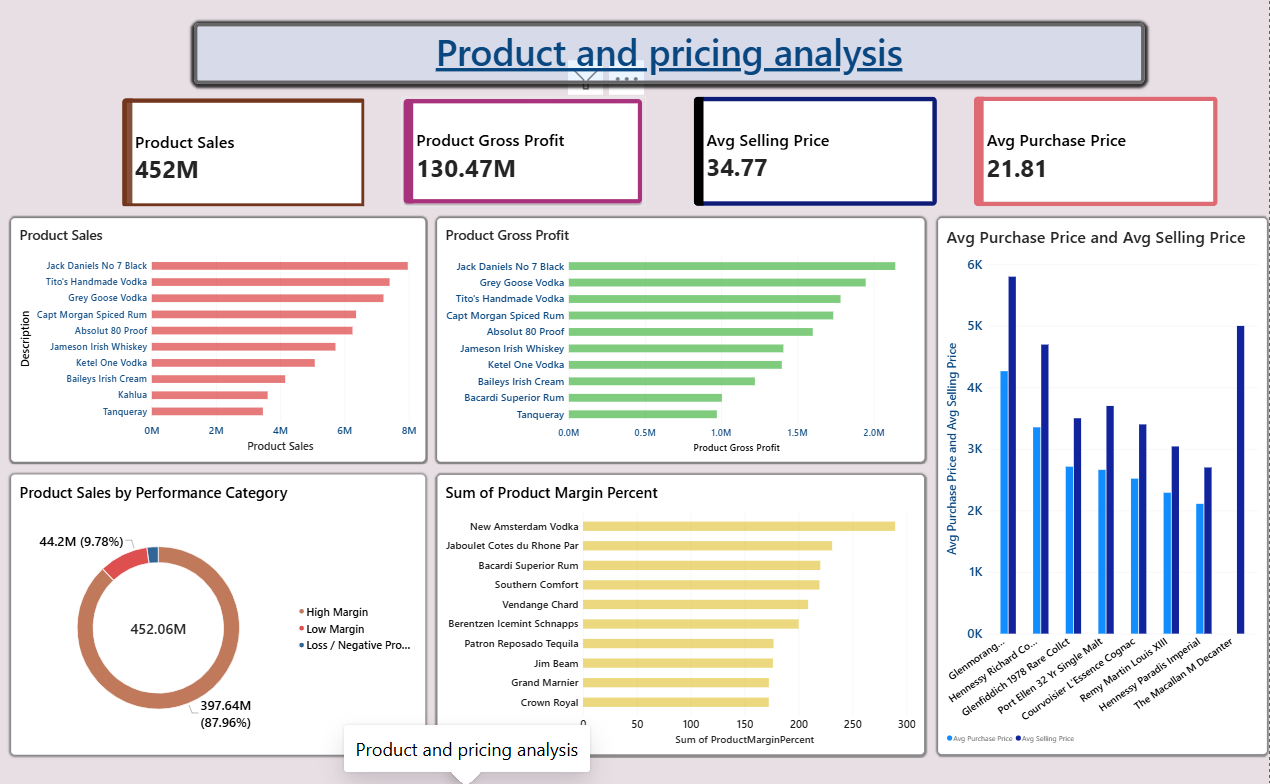

Layout of this report page (visuals, bound fields, positions):
{"tool":"powerbi","page":{"name":"Product and pricing analysis","canvas":[2500,1550],"ordinal":1},"visuals":[{"type":"cardVisual","fields":{"Data":["final_product_analysis.Product Sales"]},"box":[240,192,480,216],"z":0},{"type":"cardVisual","fields":{"Data":["final_product_analysis.Avg Purchase Price"]},"box":[1920,192,480,216],"z":1000},{"type":"cardVisual","fields":{"Data":["final_product_analysis.Avg Selling Price"]},"box":[1368,192,480,216],"z":2000},{"type":"cardVisual","fields":{"Data":["final_product_analysis.Product Gross Profit"]},"box":[792,192,480,216],"z":3000},{"type":"clusteredBarChart","title":"Product Gross Profit ","fields":{"Category":["final_product_analysis.Description"],"Y":["final_product_analysis.Product Gross Profit"]},"box":[864,432,960,480],"z":4000},{"type":"donutChart","title":"Product Sales by Performance Category","fields":{"Category":["final_product_analysis.PerformanceCategory"],"Y":["final_product_analysis.Product Sales"]},"box":[24,936,816,552],"z":5000},{"type":"clusteredColumnChart","title":"Avg Purchase Price and Avg Selling Price ","fields":{"Category":["final_product_analysis.Description"],"Y":["final_product_analysis.Avg Purchase Price","final_product_analysis.Avg Selling Price"]},"box":[1848,432,648,1056],"z":6000},{"type":"barChart","title":"Sum of Product Margin Percent ","fields":{"Category":["final_product_analysis.Description"],"Y":["Sum(final_product_analysis.ProductMarginPercent)"]},"box":[864,936,960,552],"z":7000},{"type":"clusteredBarChart","title":"Product Sales ","fields":{"Category":["final_product_analysis.Description"],"Y":["final_product_analysis.Product Sales"]},"box":[24,432,816,480],"z":8000},{"type":"textbox","box":[384,48,1872,120],"z":9000}]}

Visuals, with their boxes in screenshot pixels (x1, y1, x2, y2), scaled from the page's 2500x1550 canvas onto the 1270x784 screenshot:
cardVisual - final_product_analysis.Product Sales: box(122, 97, 366, 206)
cardVisual - final_product_analysis.Avg Purchase Price: box(975, 97, 1219, 206)
cardVisual - final_product_analysis.Avg Selling Price: box(695, 97, 939, 206)
cardVisual - final_product_analysis.Product Gross Profit: box(402, 97, 646, 206)
"Product Gross Profit " clusteredBarChart: box(439, 219, 927, 461)
"Product Sales by Performance Category" donutChart: box(12, 473, 427, 753)
"Avg Purchase Price and Avg Selling Price " clusteredColumnChart: box(939, 219, 1268, 753)
"Sum of Product Margin Percent " barChart: box(439, 473, 927, 753)
"Product Sales " clusteredBarChart: box(12, 219, 427, 461)
textbox: box(195, 24, 1146, 85)
